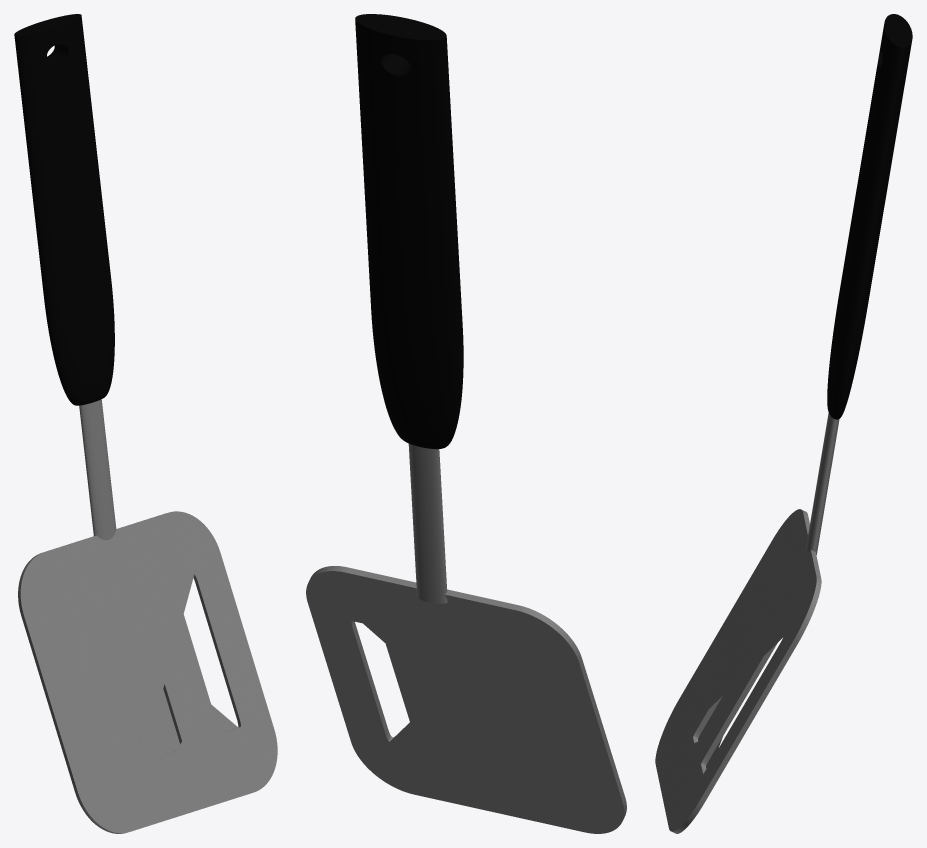
File: volteador.obj
The picture shows the model from 3 angles, left to right: view 1: azimuth 30°, elevation 25°; view 2: azimuth 150°, elevation 25°; view 3: azimuth 270°, elevation 25°; orthographic projection. The views are drawn at different scales.
Visible parts, largest first — view 1: Cilindro.029; view 2: Cilindro.029; view 3: Cilindro.029.
Boxes of the visible parts, x1,y1,x2,y2 form: Cilindro.029: (14,14,277,833); Cilindro.029: (306,14,626,833); Cilindro.029: (655,14,912,833).
Size of the model in its own units: 2.09 by 6.63 by 2.05.
Materials: 2 (1 with a texture image).
